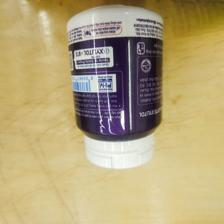Xylitol_BTS: (65, 2, 165, 171)
